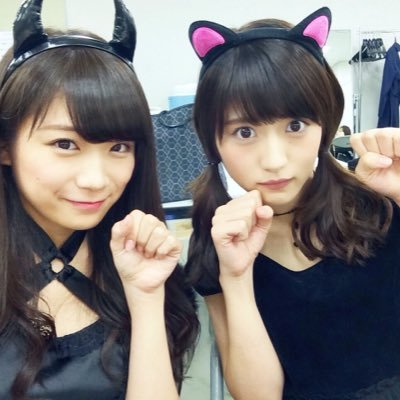face: (11, 91, 134, 230), (216, 94, 322, 203)
hand: (109, 209, 181, 291), (208, 189, 272, 272), (349, 125, 400, 207)
